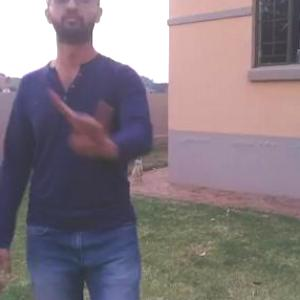takeoff-hand: (47, 84, 120, 154)
